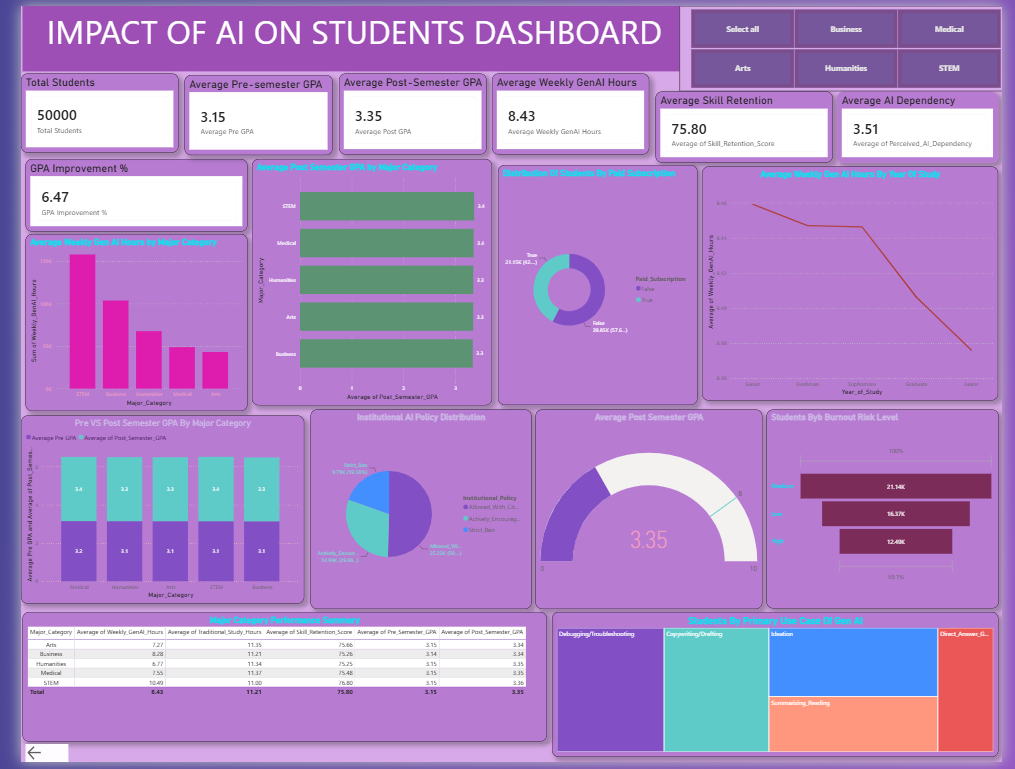

Layout of this report page (visuals, bound fields, positions):
{"tool":"powerbi","page":{"name":"DASHBOARD","canvas":[2180,1680],"ordinal":3},"visuals":[{"type":"cardVisual","title":"Average Skill Retention","fields":{"Data":["Avg(ai_student_impact_dataset (2).Skill_Retention_Score)"]},"box":[1411,189,394,158],"z":0},{"type":"cardVisual","title":"Average AI Dependency","fields":{"Data":["Avg(ai_student_impact_dataset (2).Perceived_AI_Dependency)"]},"box":[1814,190,358,158],"z":1000},{"type":"cardVisual","title":"GPA Improvement %","fields":{"Data":["ai_student_impact_dataset (2).GPA Improvement"]},"box":[10,339,493,161],"z":2000},{"type":"textbox","box":[2.5,0,1475,145],"z":3000},{"type":"cardVisual","title":"Total Students","fields":{"Data":["ai_student_impact_dataset (2).Total Students"]},"box":[0,150,350,176],"z":4000},{"type":"cardVisual","title":"Average Pre-semester GPA","fields":{"Data":["ai_student_impact_dataset (2).Average Pre GPA"]},"box":[362,152,329,178],"z":5000},{"type":"cardVisual","title":"Average Post-Semester GPA","fields":{"Data":["ai_student_impact_dataset (2).Average Post GPA"]},"box":[707,150,328,180],"z":6000},{"type":"cardVisual","title":"Average Weekly GenAI Hours","fields":{"Data":["ai_student_impact_dataset (2).Average Weekly GenAI Hours"]},"box":[1047,150,349,180],"z":7000},{"type":"clusteredColumnChart","title":"Average Weekly Gen AI Hours by Major Category","fields":{"Category":["ai_student_impact_dataset (2).Major_Category"],"Y":["Sum(ai_student_impact_dataset (2).Weekly_GenAI_Hours)"]},"box":[10,508,493,393],"z":8000},{"type":"clusteredBarChart","title":"Average Post Semester GPA by Major Category","fields":{"Category":["ai_student_impact_dataset (2).Major_Category"],"Y":["Avg(ai_student_impact_dataset (2).Post_Semester_GPA)"]},"box":[514,339,533,547],"z":9000},{"type":"donutChart","title":"Distribution Of Students By Paid Subscription","fields":{"Category":["ai_student_impact_dataset (2).Paid_Subscription"],"Y":["CountNonNull(ai_student_impact_dataset (2).Student_ID)"]},"box":[1059,353,443,533],"z":10000},{"type":"lineChart","title":"Average Weekly Gen AI  Hours By Year Of Study","fields":{"Category":["ai_student_impact_dataset (2).Year_of_Study"],"Y":["Avg(ai_student_impact_dataset (2).Weekly_GenAI_Hours)"]},"box":[1514,358,658,520],"z":11000},{"type":"columnChart","title":"Pre VS Post Semester GPA By Major Category","fields":{"Category":["ai_student_impact_dataset (2).Major_Category"],"Y":["ai_student_impact_dataset (2).Average Pre GPA","Avg(ai_student_impact_dataset (2).Post_Semester_GPA)"]},"box":[0,911,629,418],"z":12000},{"type":"pieChart","title":"Institutional AI Policy Distribution","fields":{"Category":["ai_student_impact_dataset (2).Institutional_Policy"],"Y":["CountNonNull(ai_student_impact_dataset (2).Student_ID)"]},"box":[643,895,491,443],"z":13000},{"type":"gauge","title":"Average Post Semester GPA","fields":{"Y":["Avg(ai_student_impact_dataset (2).Post_Semester_GPA)"],"MaxValue":["ai_student_impact_dataset (2).Max GPA"],"MinValue":["ai_student_impact_dataset (2).Min GPA"],"TargetValue":["ai_student_impact_dataset (2).Target GPA"]},"box":[1144,895,504,443],"z":14000},{"type":"funnel","title":"Students Byb Burnout Risk Level","fields":{"Category":["ai_student_impact_dataset (2).Burnout_Risk_Level"],"Y":["CountNonNull(ai_student_impact_dataset (2).Student_ID)"]},"box":[1656,896,516,442],"z":15000},{"type":"treemap","title":"Students By Primary Use Case Of Gen AI","fields":{"Group":["ai_student_impact_dataset (2).Primary_Use_Case"],"Values":["CountNonNull(ai_student_impact_dataset (2).Student_ID)"]},"box":[1180,1348,992,322],"z":16000},{"type":"tableEx","title":"Major Category Performance Summary","fields":{"Values":["ai_student_impact_dataset (2).Major_Category","Avg(ai_student_impact_dataset (2).Weekly_GenAI_Hours)","Avg(ai_student_impact_dataset (2).Traditional_Study_Hours)","Avg(ai_student_impact_dataset (2).Skill_Retention_Score)","Avg(ai_student_impact_dataset (2).Pre_Semester_GPA)","Avg(ai_student_impact_dataset (2).Post_Semester_GPA)"]},"box":[3.3,1347.2,1165.1,288],"z":17000},{"type":"actionButton","box":[10,1640,95,40],"z":18000},{"type":"slicer","title":"Major category","fields":{"Values":["ai_student_impact_dataset (2).Major_Category"]},"box":[1462.1,0,737.9,189.7],"z":19000}]}

Visuals, with their boxes in screenshot pixels (x1, y1, x2, y2), scaled from the page's 2180x1680 canvas onto the 1015x769 screenshot:
"Average Skill Retention" cardVisual: (left=657, top=87, right=840, bottom=159)
"Average AI Dependency" cardVisual: (left=845, top=87, right=1011, bottom=159)
"GPA Improvement %" cardVisual: (left=5, top=155, right=234, bottom=229)
textbox: (left=1, top=0, right=688, bottom=66)
"Total Students" cardVisual: (left=0, top=69, right=163, bottom=149)
"Average Pre-semester GPA" cardVisual: (left=169, top=70, right=322, bottom=151)
"Average Post-Semester GPA" cardVisual: (left=329, top=69, right=482, bottom=151)
"Average Weekly GenAI Hours" cardVisual: (left=487, top=69, right=650, bottom=151)
"Average Weekly Gen AI Hours by Major Category" clusteredColumnChart: (left=5, top=233, right=234, bottom=412)
"Average Post Semester GPA by Major Category" clusteredBarChart: (left=239, top=155, right=487, bottom=406)
"Distribution Of Students By Paid Subscription" donutChart: (left=493, top=162, right=699, bottom=406)
"Average Weekly Gen AI  Hours By Year Of Study" lineChart: (left=705, top=164, right=1011, bottom=402)
"Pre VS Post Semester GPA By Major Category" columnChart: (left=0, top=417, right=293, bottom=608)
"Institutional AI Policy Distribution" pieChart: (left=299, top=410, right=528, bottom=612)
"Average Post Semester GPA" gauge: (left=533, top=410, right=767, bottom=612)
"Students Byb Burnout Risk Level" funnel: (left=771, top=410, right=1011, bottom=612)
"Students By Primary Use Case Of Gen AI" treemap: (left=549, top=617, right=1011, bottom=764)
"Major Category Performance Summary" tableEx: (left=2, top=617, right=544, bottom=748)
actionButton: (left=5, top=751, right=49, bottom=768)
"Major category" slicer: (left=681, top=0, right=1014, bottom=87)
